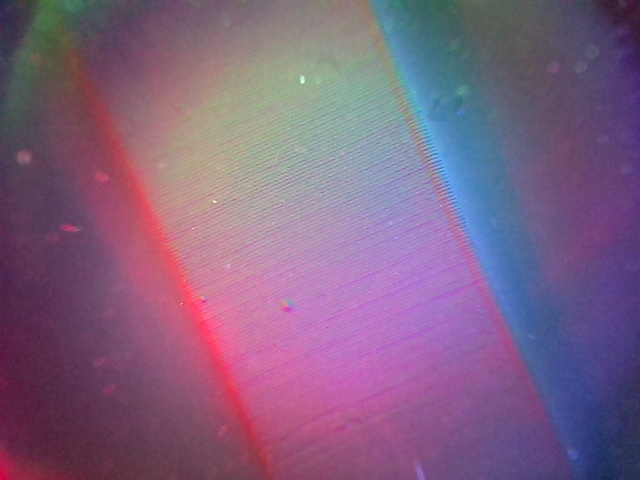contact: (65, 3, 581, 478)
